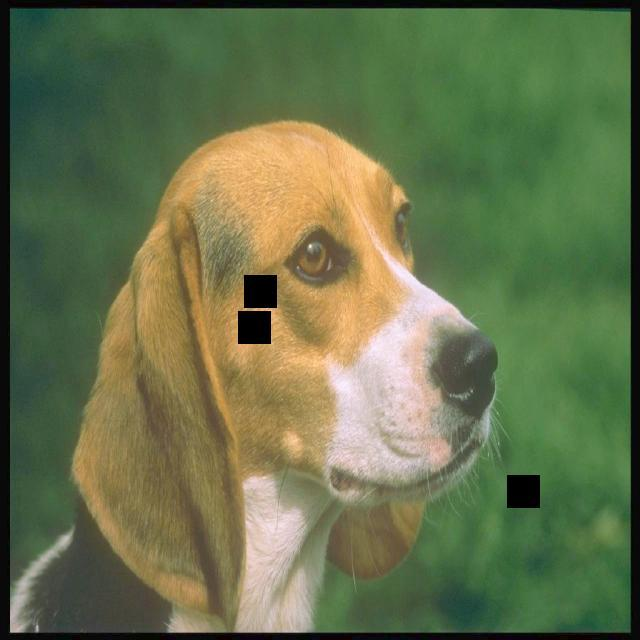adult_dog: (12, 120, 499, 628)
